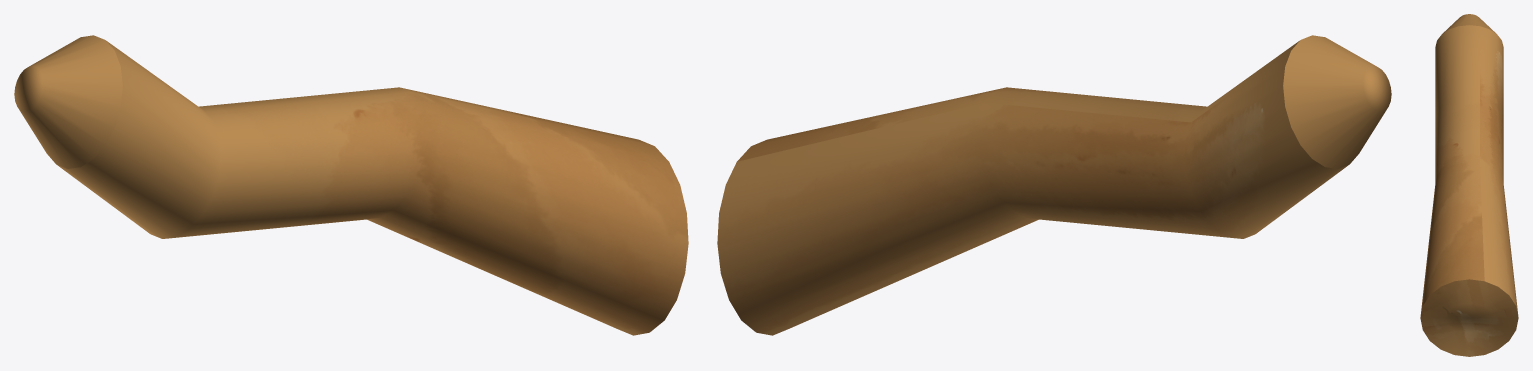
Rendered from Branch4.fbx.
The picture shows the model from 3 angles, left to right: view 1: azimuth 30°, elevation 25°; view 2: azimuth 150°, elevation 25°; view 3: azimuth 270°, elevation 25°; orthographic projection. The views are drawn at different scales.
Parts seen in each view (by area): view 1: pCylinder6; view 2: pCylinder6; view 3: pCylinder6.
Part boxes in pixels (box(x1,y1,x2,y2)): pCylinder6: box(14, 35, 688, 335); pCylinder6: box(717, 35, 1391, 335); pCylinder6: box(1420, 14, 1518, 356).
Size of the model in its own units: 2.25 by 1.4 by 0.6013.
